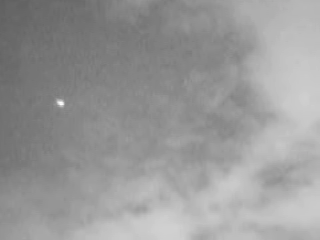Target: (57, 100, 64, 106)
